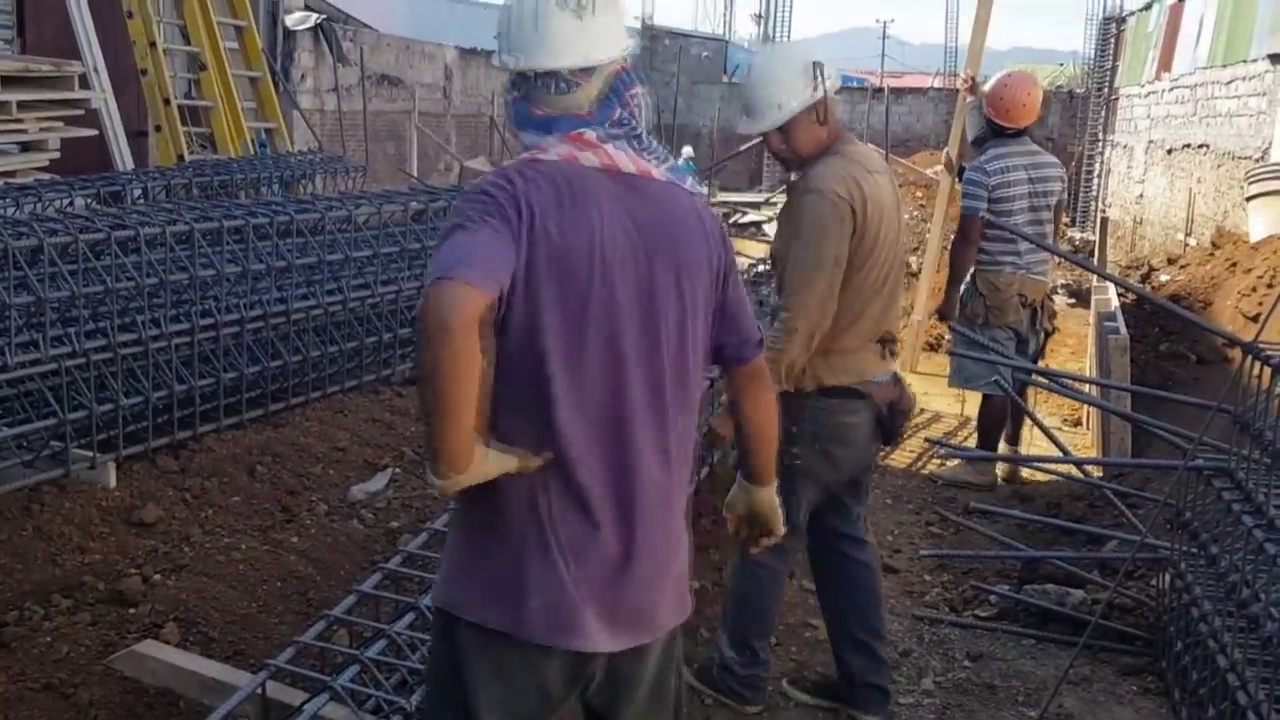helmet: (475, 0, 638, 81), (738, 46, 844, 143), (986, 70, 1049, 136), (680, 144, 696, 161)
helmet-on: (481, 3, 642, 145), (732, 48, 847, 171), (972, 64, 1057, 155), (676, 145, 697, 165)
person: (406, 0, 755, 694), (733, 36, 908, 720), (955, 60, 1072, 471), (670, 140, 700, 190)
